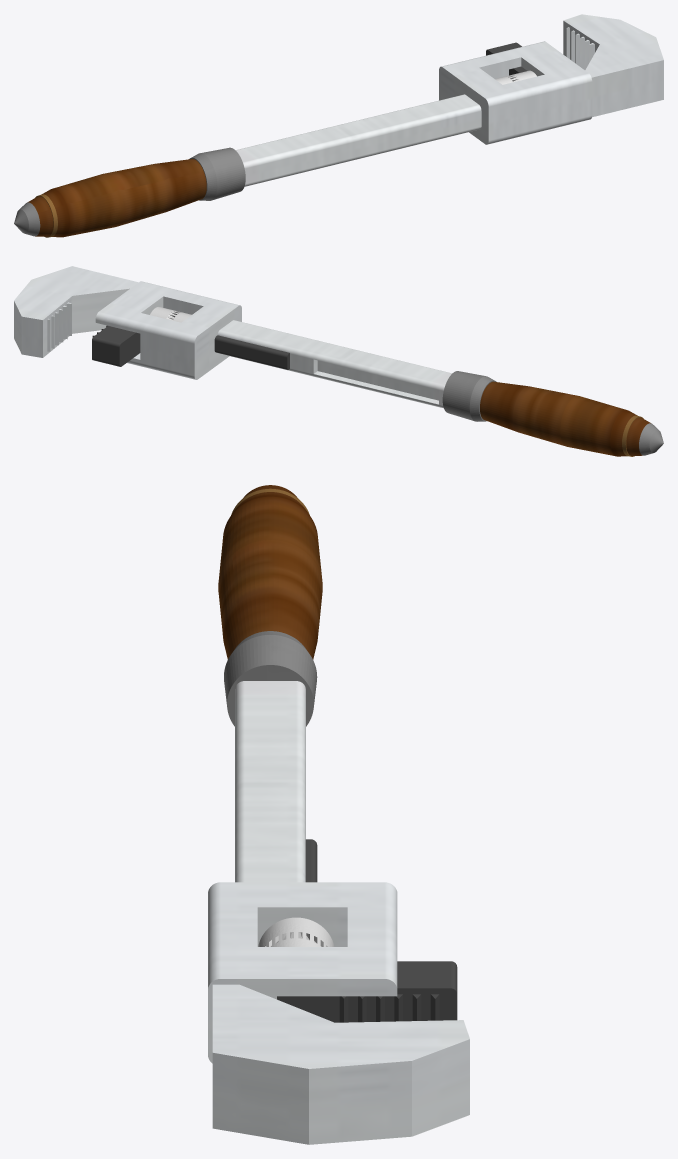
Rendered from Handtools_Wrench__0023.glb.
The picture shows the model from 3 angles, top to bottom: view 1: azimuth 30°, elevation 25°; view 2: azimuth 150°, elevation 25°; view 3: azimuth 270°, elevation 25°; orthographic projection. The views are drawn at different scales.
Visible parts, largest first — view 1: head_frame::frame_steel, head_frame::handle_body, head_frame::ferrule, head_frame::butt_cap; view 2: head_frame::frame_steel, head_frame::handle_body, movable_jaw::jaw_steel, head_frame::ferrule, head_frame::butt_cap, adjust_nut::nut_knurled; view 3: head_frame::frame_steel, head_frame::handle_body, movable_jaw::jaw_steel, head_frame::ferrule, adjust_nut::nut_knurled.
Boxes of the visible parts, x1,y1,x2,y2 form: head_frame::frame_steel: [236, 14, 663, 186]; head_frame::handle_body: [27, 159, 206, 237]; head_frame::ferrule: [189, 147, 245, 200]; head_frame::butt_cap: [14, 202, 40, 236]; head_frame::frame_steel: [14, 266, 451, 408]; head_frame::handle_body: [480, 381, 650, 456]; movable_jaw::jaw_steel: [92, 325, 289, 369]; head_frame::ferrule: [442, 371, 496, 421]; head_frame::butt_cap: [639, 423, 663, 455]; adjust_nut::nut_knurled: [150, 307, 191, 322]; head_frame::frame_steel: [208, 681, 469, 1144]; head_frame::handle_body: [218, 485, 322, 659]; movable_jaw::jaw_steel: [277, 839, 457, 1022]; head_frame::ferrule: [224, 631, 317, 726]; adjust_nut::nut_knurled: [258, 917, 334, 946].
Bounding box in the file's own units: 0.447 × 0.0325 × 0.0814.
Materials: 6 (5 with a texture image).
